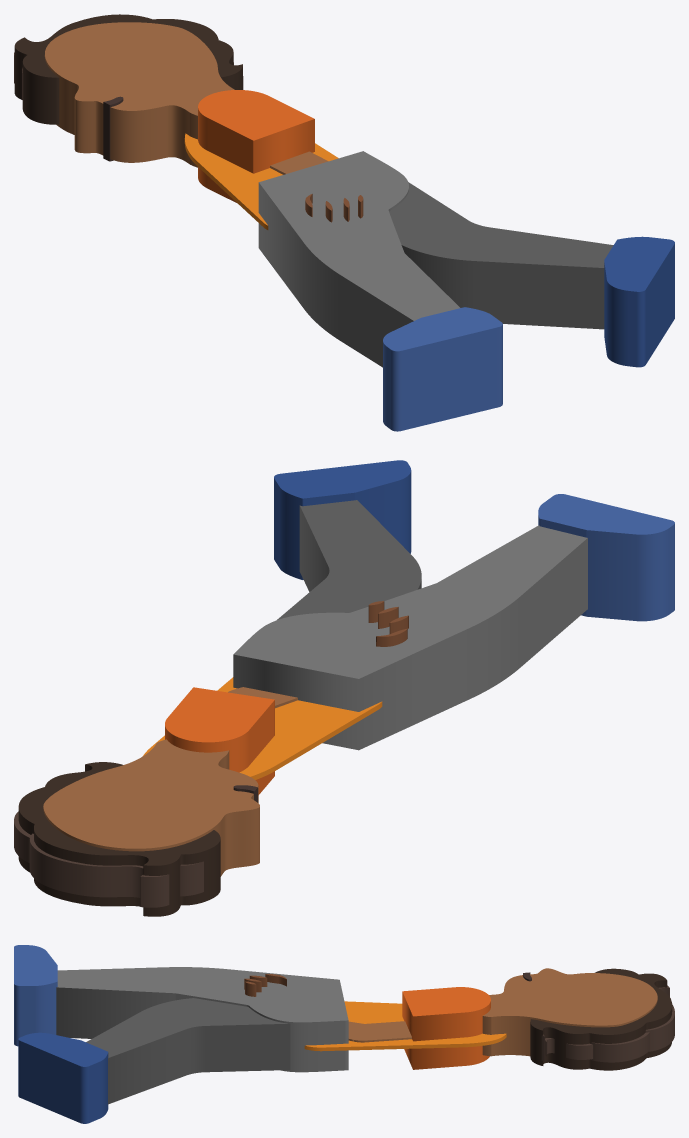
File: emoji_u1f6b6_1f3fe.glb
The picture shows the model from 3 angles, top to bottom: view 1: azimuth 30°, elevation 25°; view 2: azimuth 150°, elevation 25°; view 3: azimuth 270°, elevation 25°; orthographic projection. The views are drawn at different scales.
Visible parts, largest first — view 1: emoji_u1f6b6_1f3fe; view 2: emoji_u1f6b6_1f3fe; view 3: emoji_u1f6b6_1f3fe.
Boxes of the visible parts, x1=… form: emoji_u1f6b6_1f3fe: x1=14, y1=14, x2=674, y2=431; emoji_u1f6b6_1f3fe: x1=14, y1=460, x2=674, y2=916; emoji_u1f6b6_1f3fe: x1=14, y1=945, x2=674, y2=1123.
Size of the model in its own units: 0.0145 by 0.0042 by 0.0336.
